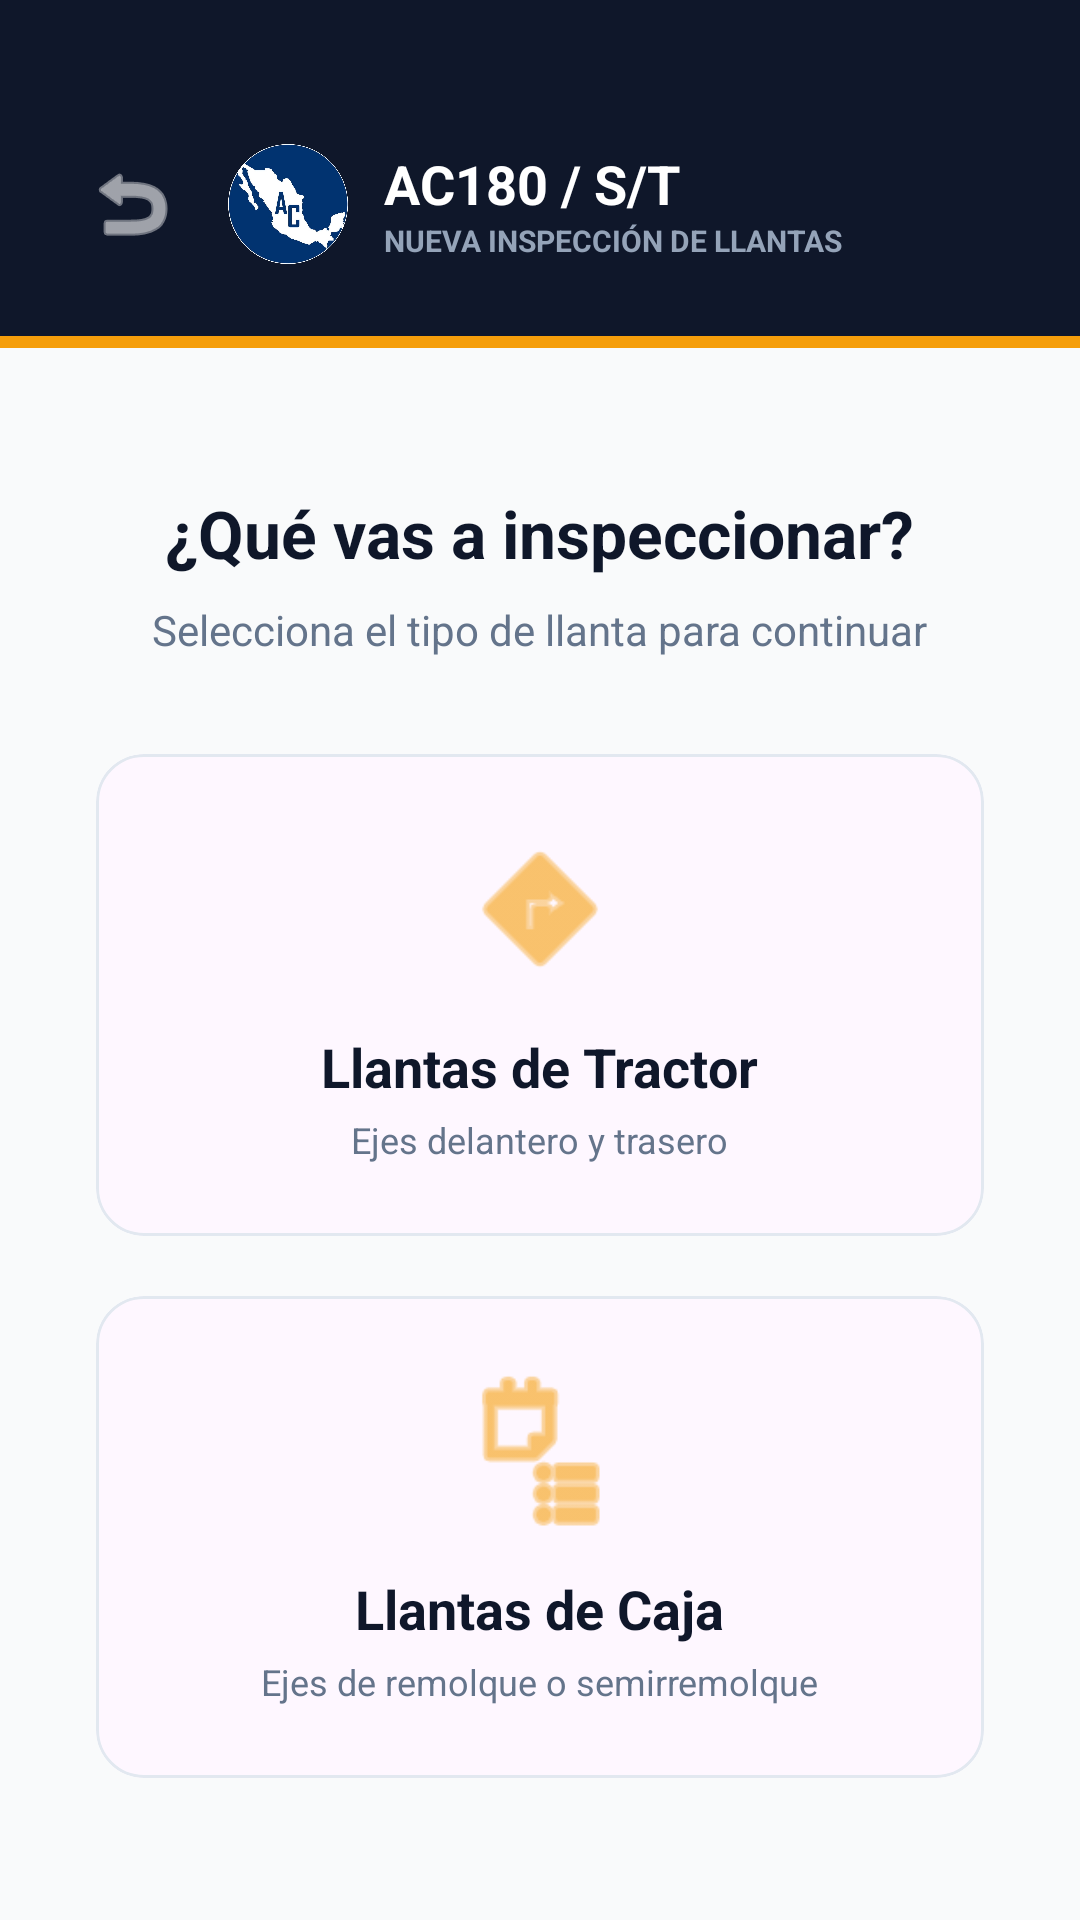

Screen size 1080*1920. Icon name, then its center in pixels as (x=x, y=y):
agenda: (x=541, y=1451)
directions: (x=540, y=909)
revert: (x=133, y=204)
